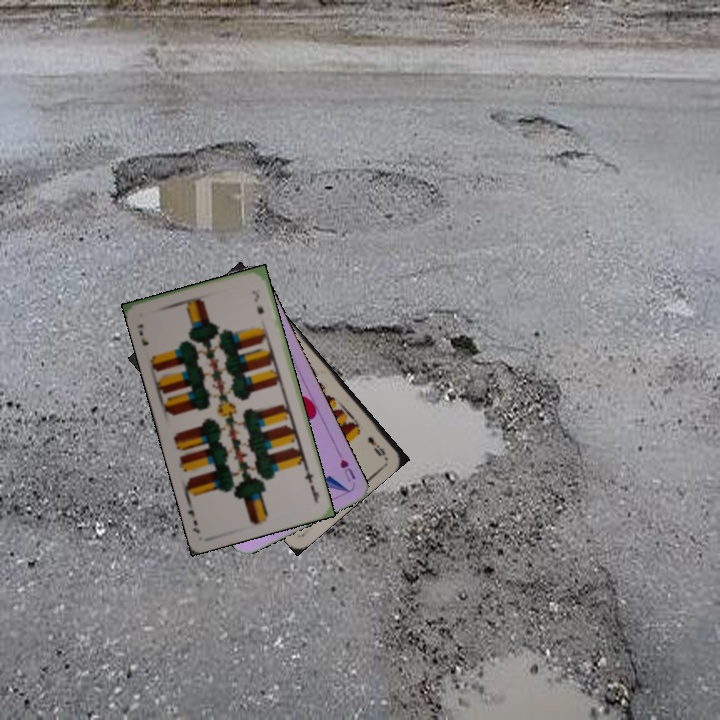E7: (301, 464, 322, 504), (133, 320, 151, 348)
E9: (363, 432, 388, 459)
HU: (336, 455, 358, 484)
